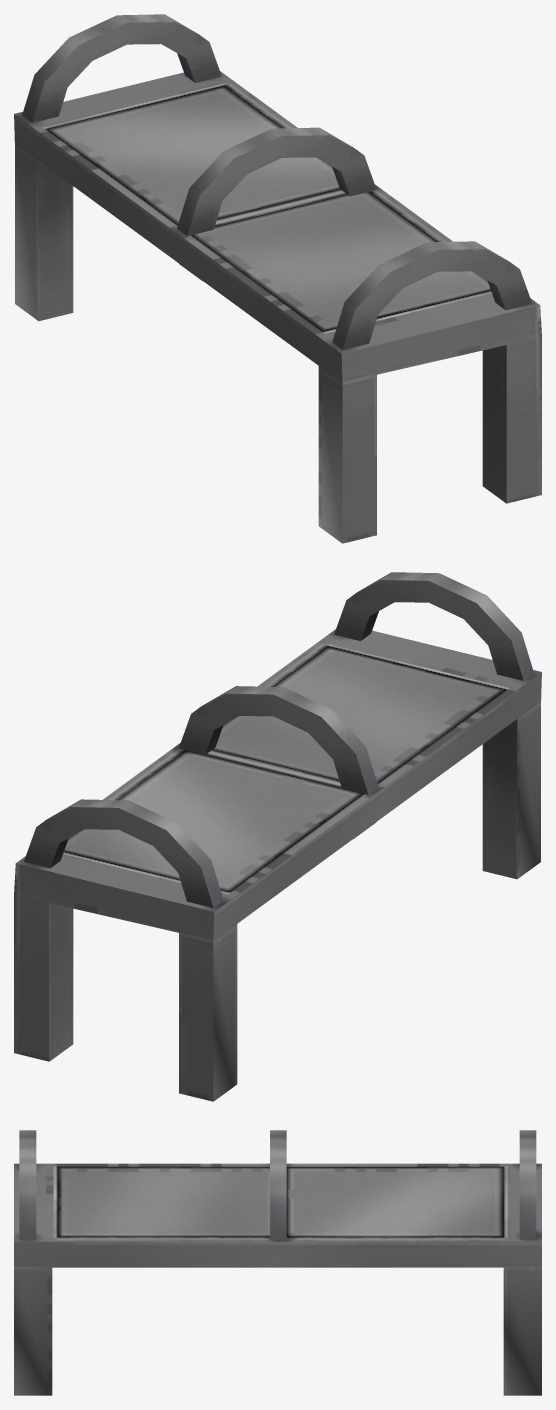
Rendered from bank2.glb.
The picture shows the model from 3 angles, top to bottom: view 1: azimuth 30°, elevation 25°; view 2: azimuth 150°, elevation 25°; view 3: azimuth 270°, elevation 25°; orthographic projection. The views are drawn at different scales.
Parts seen in each view (by area): view 1: cube1; view 2: cube1; view 3: cube1.
Boxes of the visible parts, bbox=[...] form: cube1: bbox=[14, 14, 541, 543]; cube1: bbox=[14, 572, 541, 1101]; cube1: bbox=[14, 1130, 541, 1395].
Bounding box in the file's own units: 7.06 × 9 × 20.
1 material, 1 textured.
